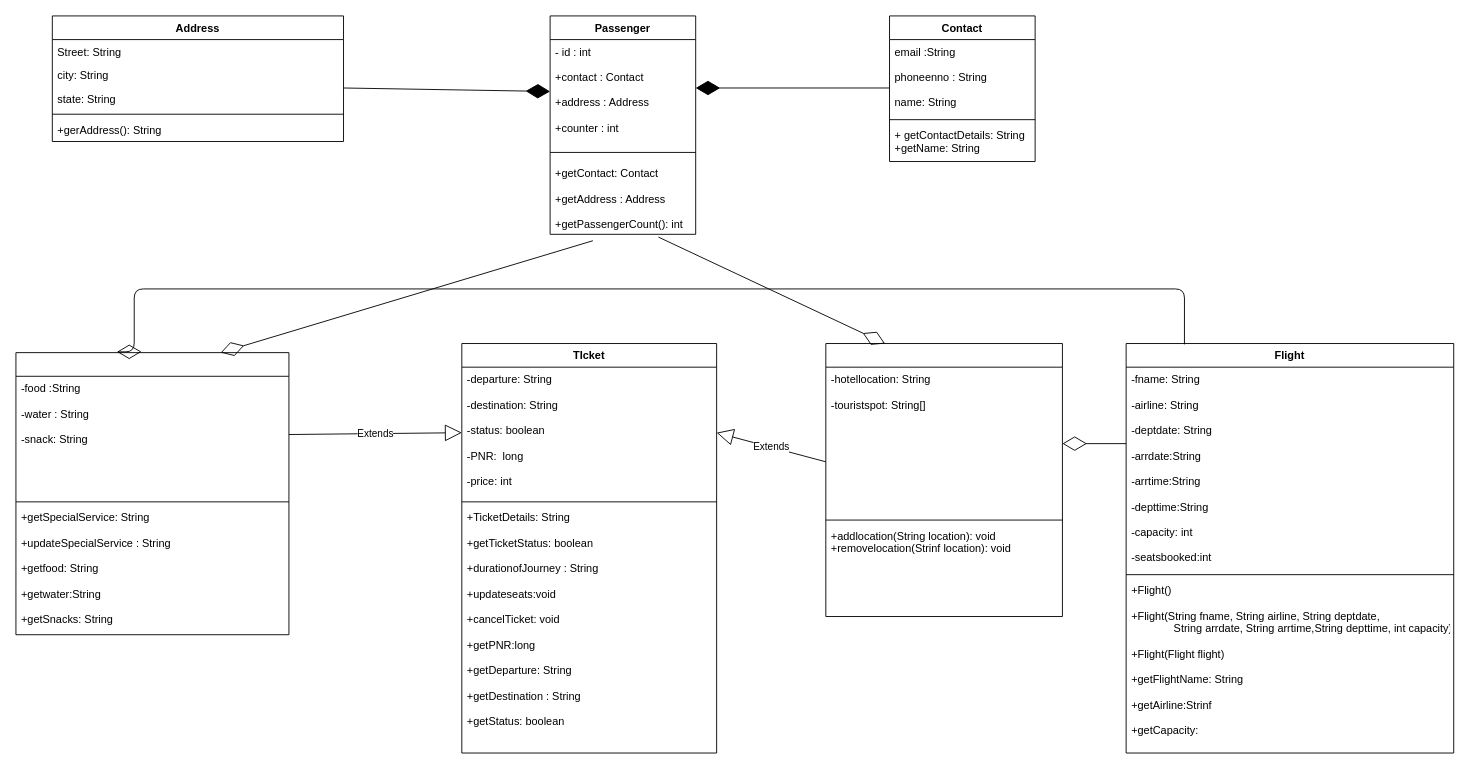
The diagram is 1470 pixels wide and 772 high, and some of its shapes have lost their labels. The box of each missing label's shape, as (x1, y1, x2, y2) in pixels:
RegularTicket: (15, 352, 289, 635)
TouristTickets: (825, 343, 1062, 617)
